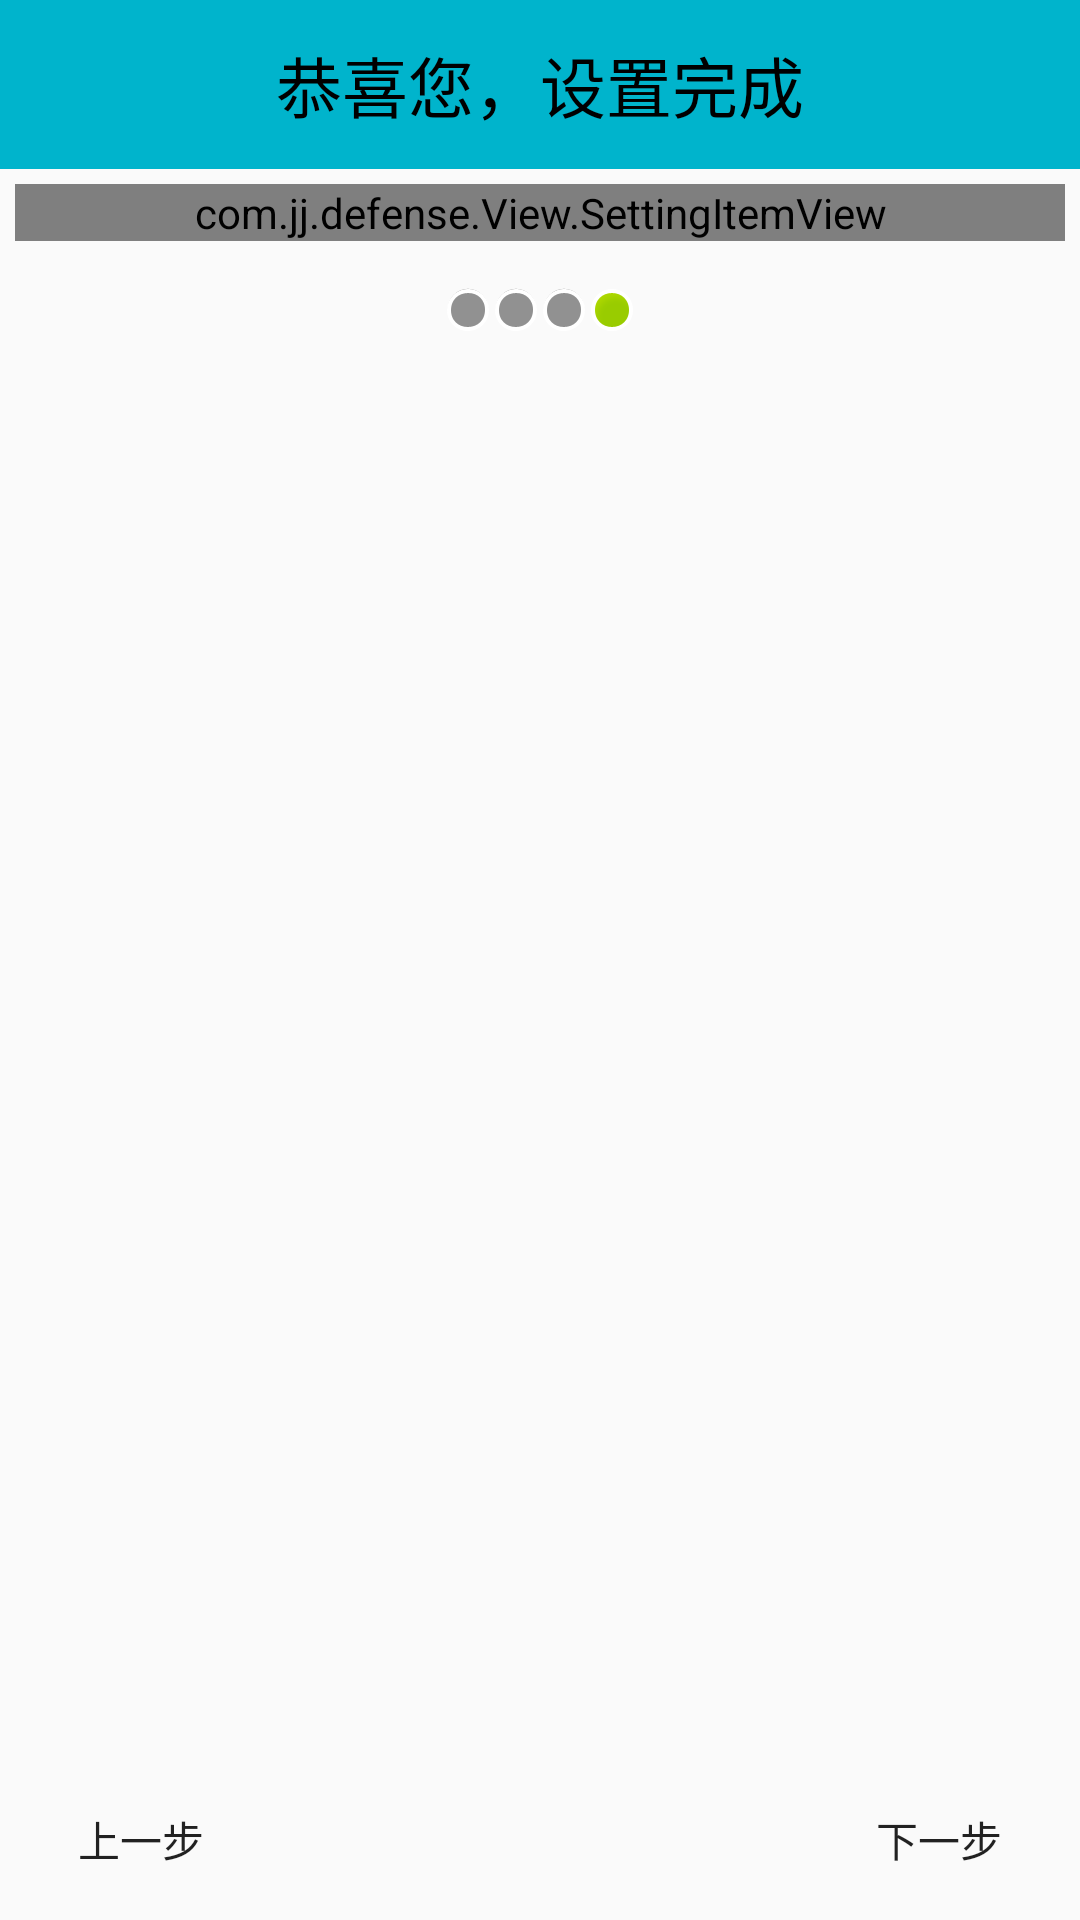

Screen size 1080w x 1920h. Icon name, then its box in pixels as region(x1, y1, x2, y2):
presence invisible: region(451, 289, 485, 327), region(499, 289, 533, 327), region(547, 289, 581, 327)
presence online: region(595, 293, 629, 327)
